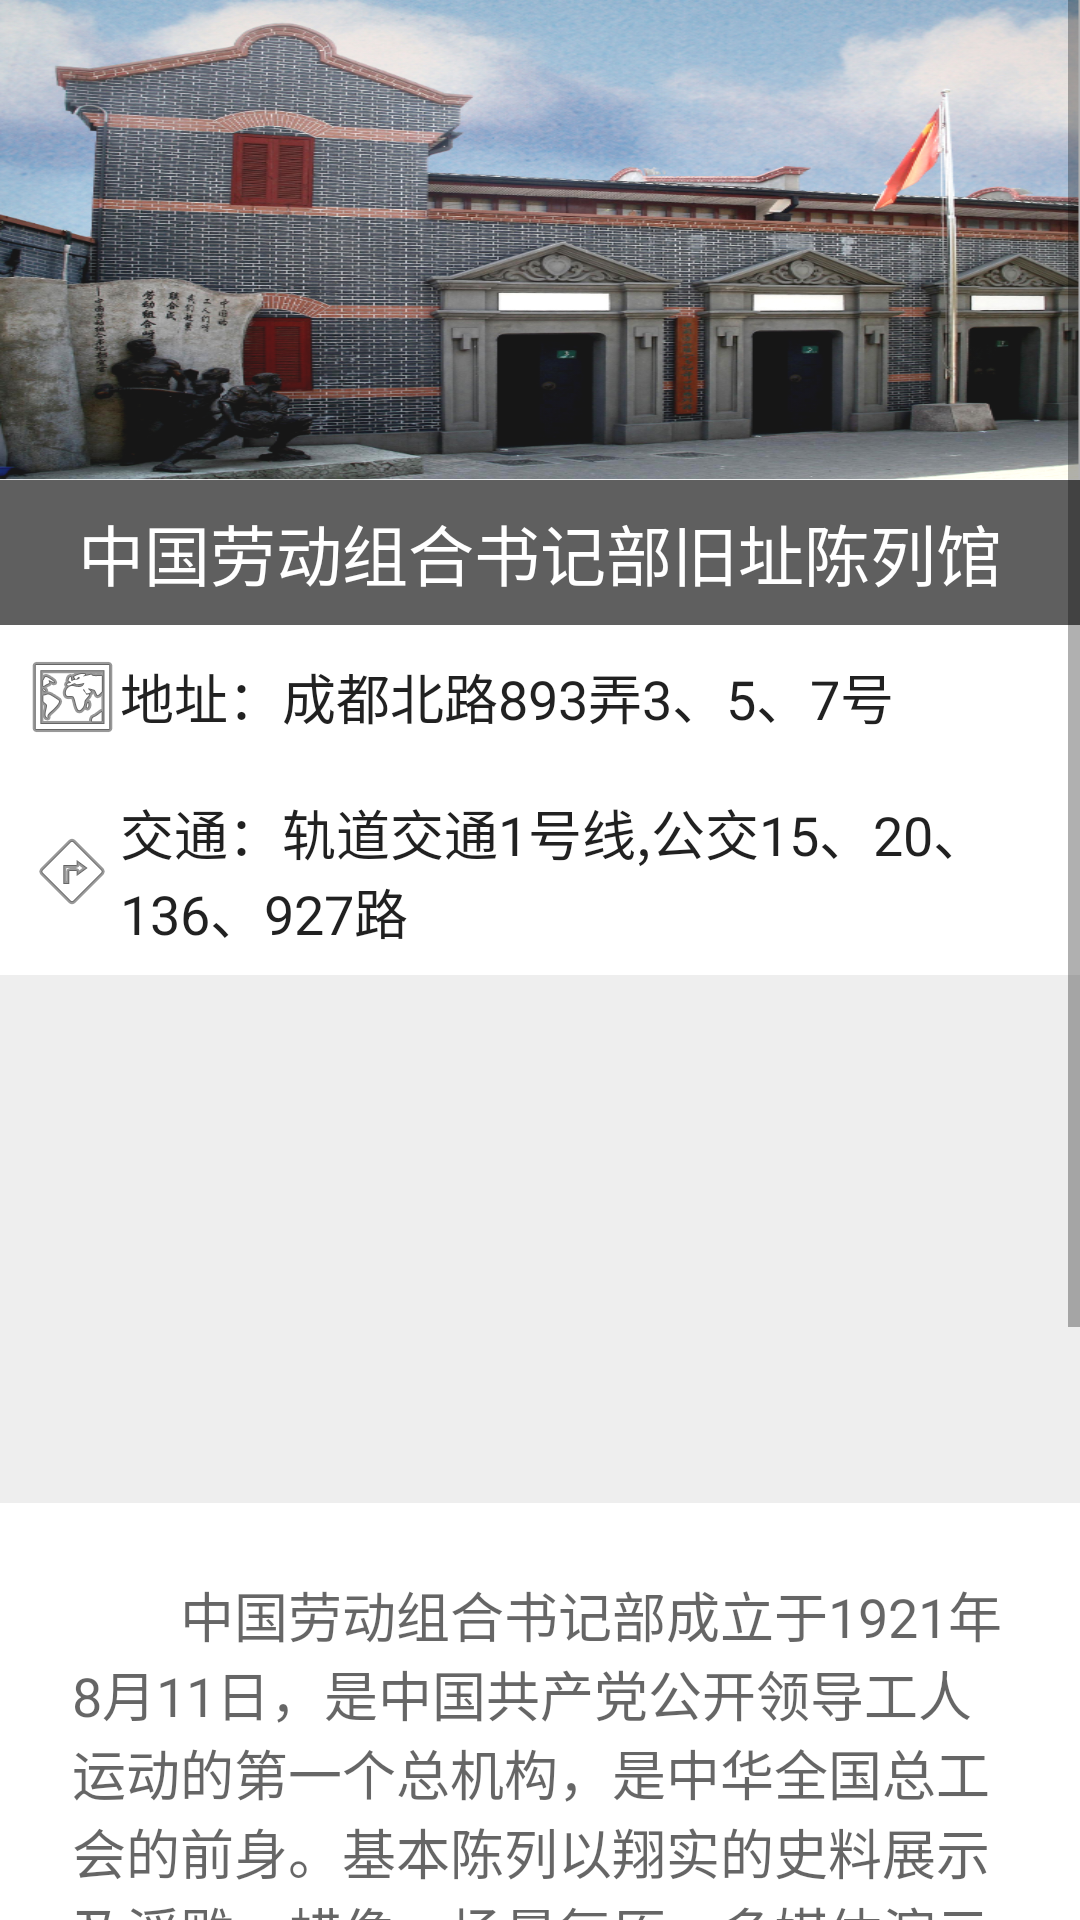

Point at icon controls on the screen. Image size 1080w x 1920h, points as (x,y).
directions: (72,871)
